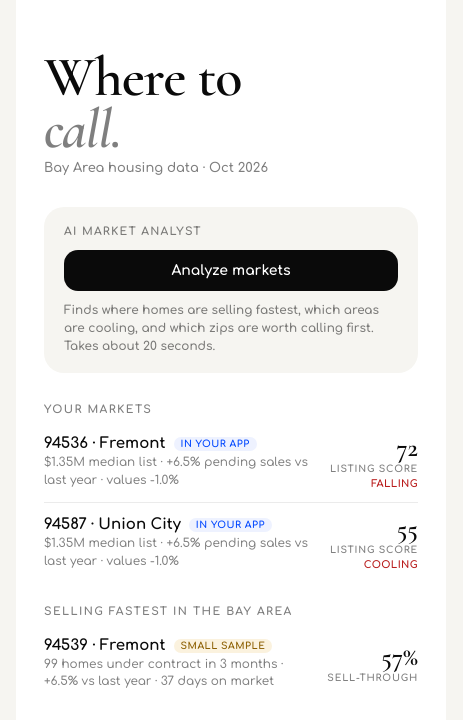
Test: Markets page: the AI analyst › keeps today's analysis, so reopening the page does not pay for another run
Later steps or results of the test are not shown.
Click the button "Analyze markets".
click(231, 270)  # box x1=64 y1=250 x2=398 y2=291
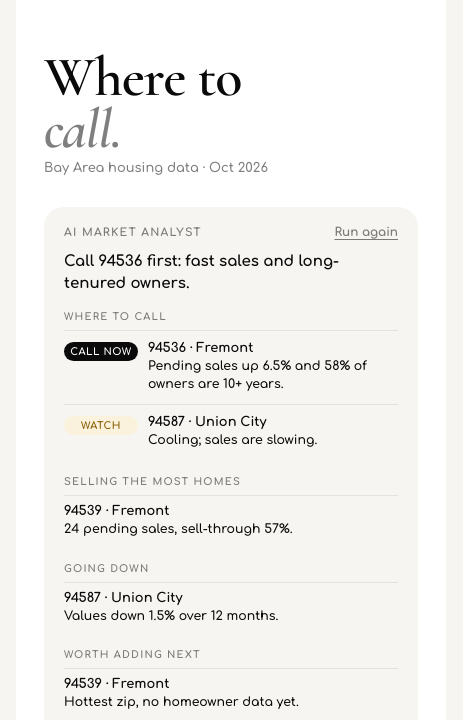
Result: the text "Call 94536 first: fast sales and long-tenured owners." is shown at x1=64 y1=253 x2=339 y2=292
